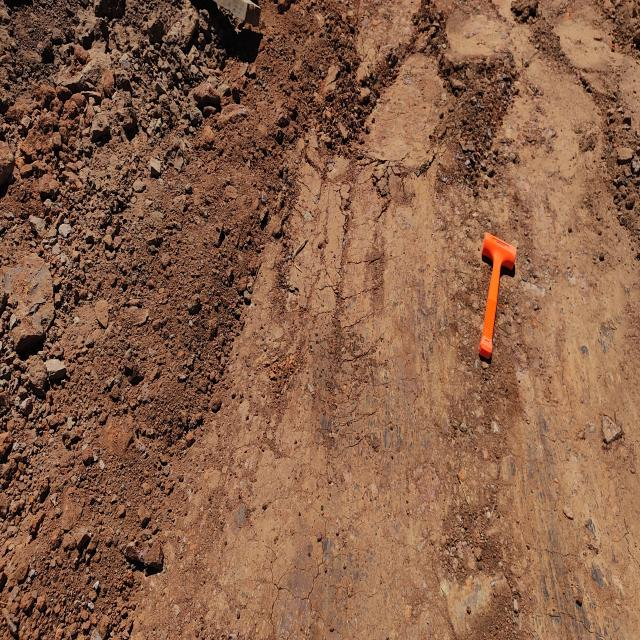Orange_hammer: (478, 231, 517, 363)
